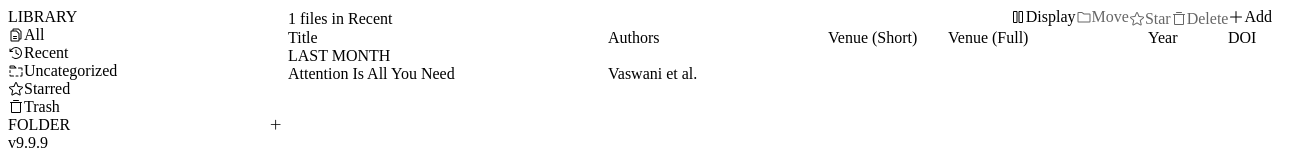
it: Inline edit Title/Authors (Story 6.6) › reverts the row and shows an error toast when patchDoc rejects
The width and height of the screenshot is (1292, 165).
Check: the text "Attention Is All You Need" is shown, box x1=288 y1=65 x2=455 y2=83
Click the text "Attention Is All You Need" at point(371, 74), box x1=288 y1=65 x2=1280 y2=83
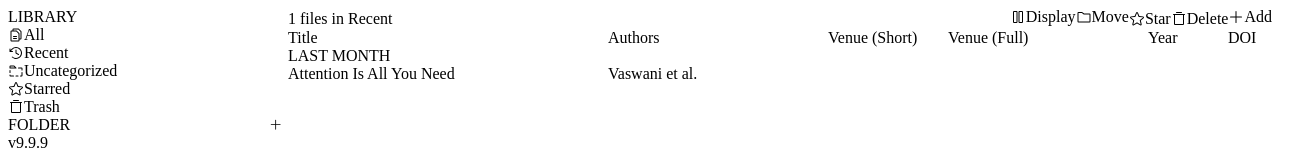
Click the text "Attention Is All You Need" at point(371, 74), box x1=288 y1=65 x2=455 y2=83
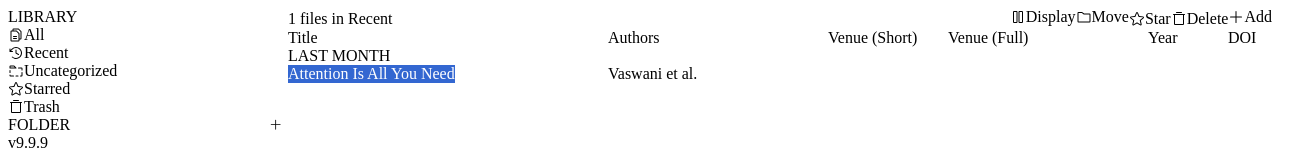
Replace the text in the field showing "Attention Is All You Need" with "Will Fail" at point(448, 74), box x1=288 y1=65 x2=608 y2=83
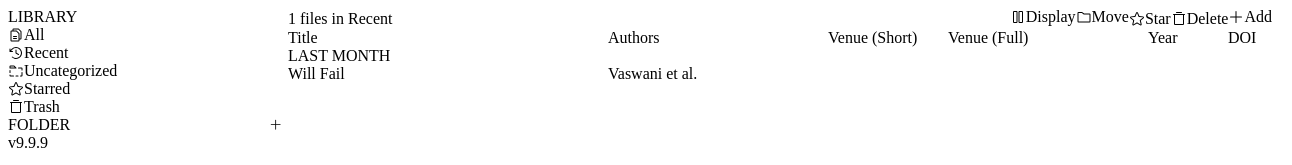
Press Enter in the field showing "Attention Is All You Need", box x1=288 y1=65 x2=608 y2=83
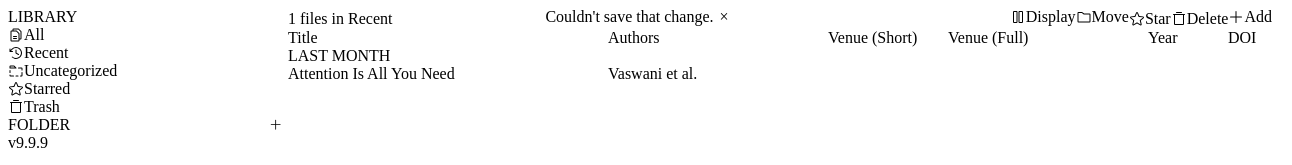
Check: the text "Will Fail" is not shown
Check: the text "Couldn't save that change." is shown, box x1=545 y1=8 x2=714 y2=26
Check: the text "Attention Is All You Need" is shown, box x1=288 y1=65 x2=455 y2=83
